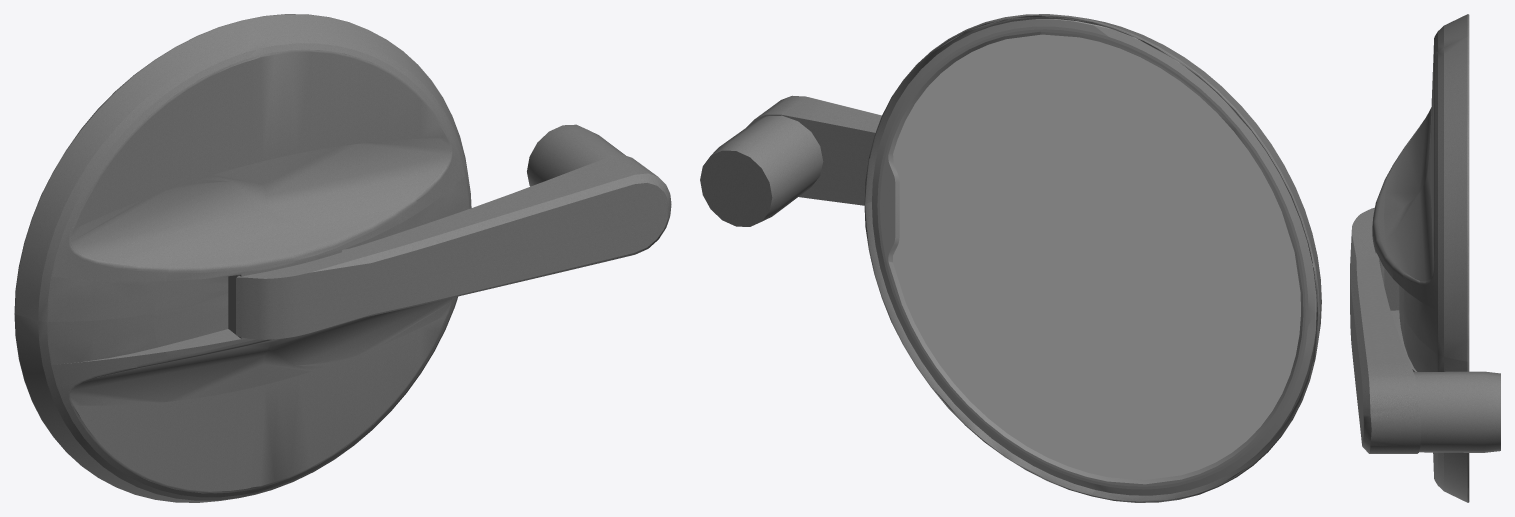
The model's file is DL 50 Midi.obj.
The picture shows the model from 3 angles, left to right: view 1: azimuth 30°, elevation 25°; view 2: azimuth 150°, elevation 25°; view 3: azimuth 270°, elevation 25°; orthographic projection. The views are drawn at different scales.
Parts seen in each view (by area): view 1: Siteco_DL_50_Midi_DL_50_Midi; view 2: Siteco_DL_50_Midi_DL_50_Midi; view 3: Siteco_DL_50_Midi_DL_50_Midi.
Part boxes in pixels (x1,y1,x2,y2): Siteco_DL_50_Midi_DL_50_Midi: (14,14,671,502); Siteco_DL_50_Midi_DL_50_Midi: (700,14,1321,502); Siteco_DL_50_Midi_DL_50_Midi: (1350,14,1500,502).
Bounding box in the file's own units: 0.8438 × 0.6346 × 0.1955.
Materials: 3 (3 with a texture image).
